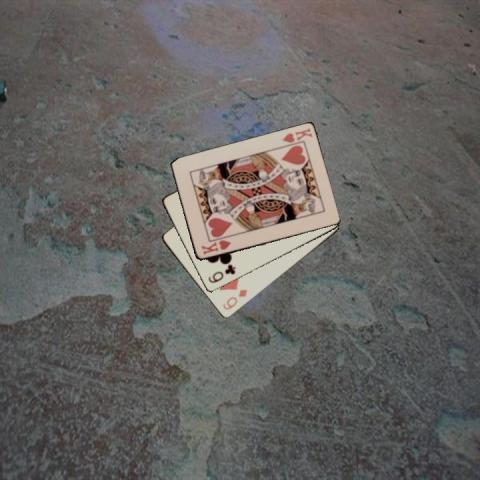6c: (205, 262, 237, 285)
6d: (220, 287, 249, 311)
Kh: (198, 237, 232, 257), (280, 125, 314, 145)
